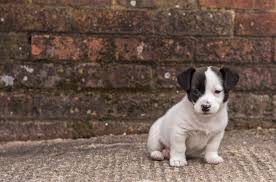dog: (176, 64, 240, 115)
